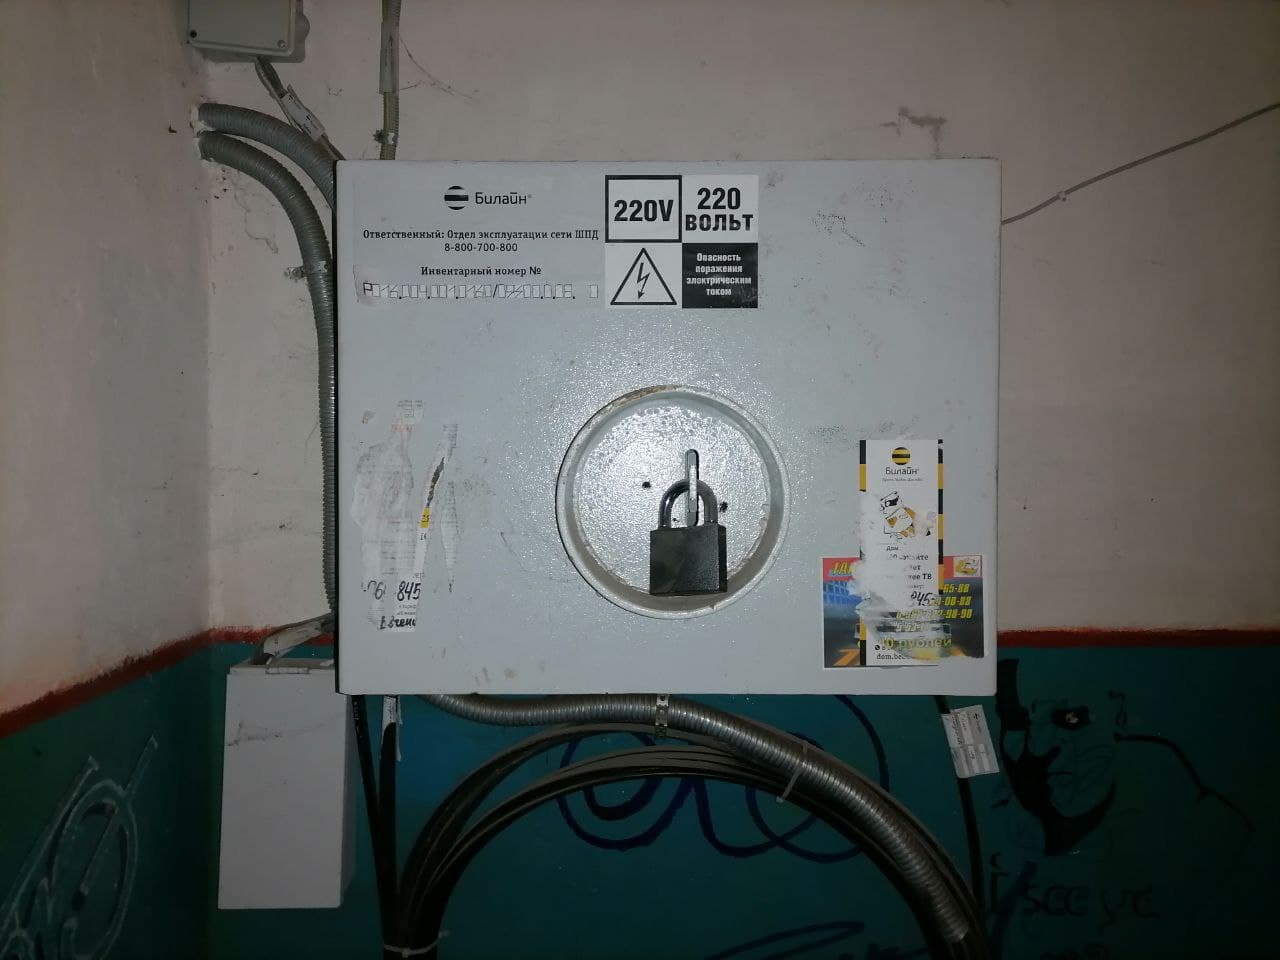shta-3: (327, 153, 1001, 701)
